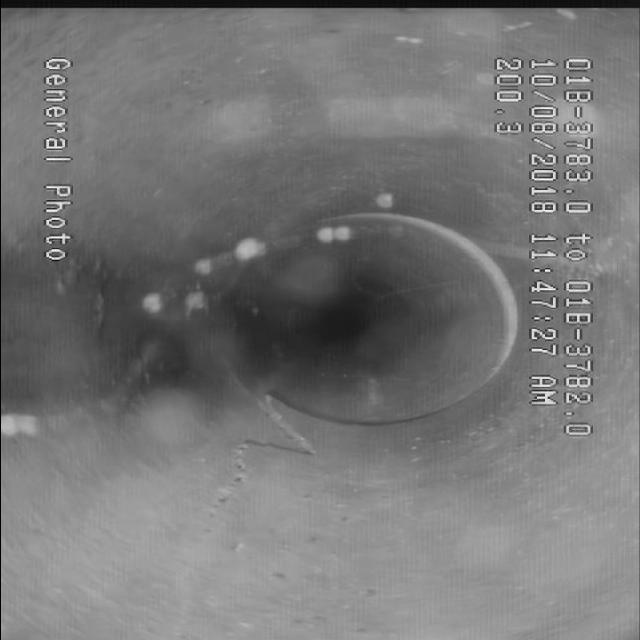Crack: (183, 398, 336, 518)
